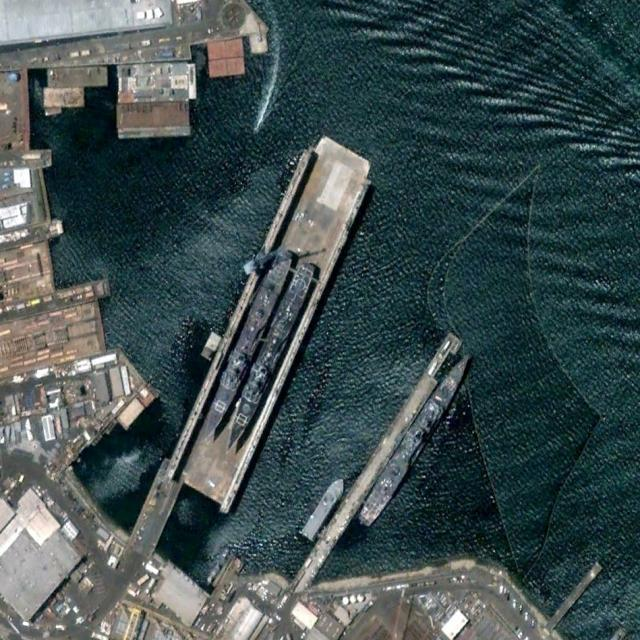Frigate: (354, 344, 477, 532), (197, 243, 295, 447), (218, 258, 318, 457)
Other Ship: (300, 475, 349, 545)
